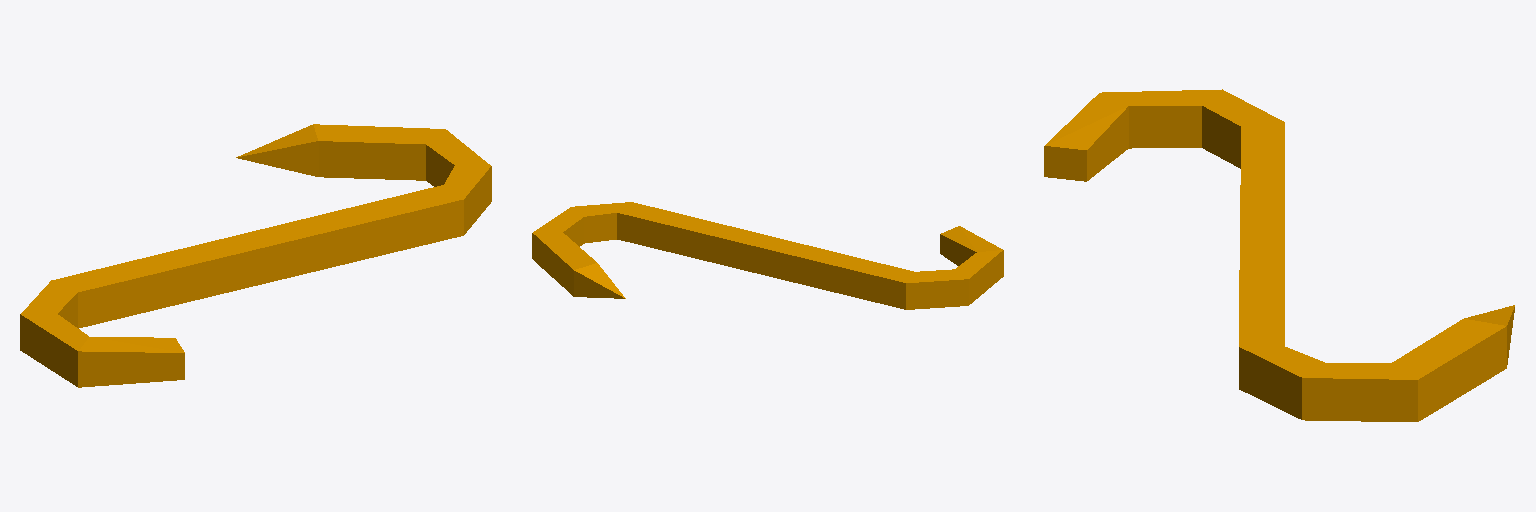
robot.urdf — hook:
<?xml version="0.0" ?>
<robot name="hook">
  <link name="hook">
  <contact>
      <lateral_friction value="1"/>
  </contact>
    <inertial>
      <origin rpy="0 0 0" xyz="0 0 0"/>
       <mass value="0"/>
       <inertia ixx="0.019" ixy="0" ixz="0" iyy="0.019" iyz="0" izz="0.019"/>
    </inertial>
    <visual>
      <origin rpy="0 0 0" xyz="0 0 0"/>
      <geometry>
	<mesh filename="HookVisual.obj" scale="1 1 1"/>
      </geometry>
    </visual>
    <collision>
      <origin rpy="0 0 0" xyz="0 0 0"/>
      <geometry>
	<mesh filename="HookCollision.obj" scale="1 1 1"/>
      </geometry>
    </collision>
  </link>
</robot>

--- Render facts (derived) ---
3 views of the same robot in one strip: view 1: azimuth 30°, elevation 25°; view 2: azimuth 150°, elevation 25°; view 3: azimuth 270°, elevation 25° (orthographic).
Robot: hook — 1 links, 0 joints (none); root link hook; default pose: all joints at 0.
Links seen in each view (by area): view 1: hook; view 2: hook; view 3: hook.
Link boxes in pixels (box(x1,y1,x2,y2)): hook: box(20, 124, 491, 387); hook: box(532, 202, 1003, 309); hook: box(1044, 89, 1514, 421).
Size in the robot's own frame: 0.3811 by 0.2611 by 0.026 metres.
Meshes: 1 distinct files referenced, 1 mesh visuals loaded (1 OBJ).